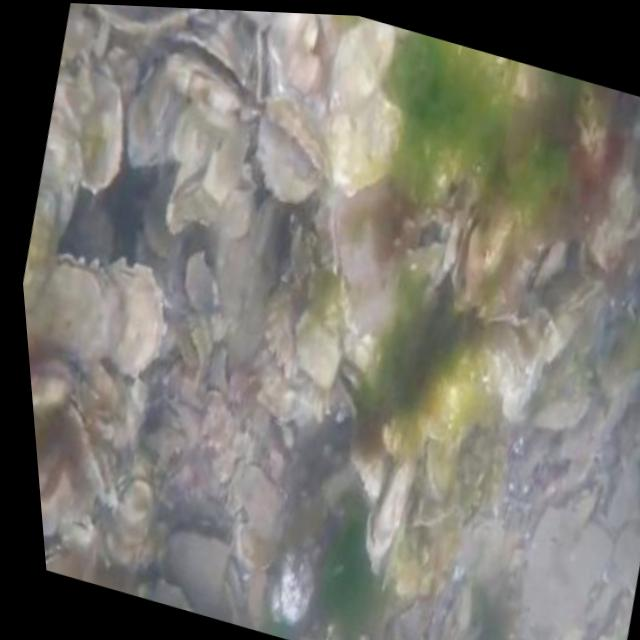Oyster-Closed: (28, 253, 115, 363), (105, 254, 165, 380), (365, 456, 415, 573), (45, 545, 65, 575)
Oyster-Indeterminate: (324, 88, 404, 199), (328, 16, 392, 112), (266, 280, 325, 369), (591, 171, 633, 269), (296, 287, 338, 381), (597, 320, 640, 392), (426, 423, 468, 494)
Oyster-Open: (452, 190, 517, 308), (59, 395, 121, 511), (258, 98, 331, 196), (396, 206, 452, 283), (90, 4, 211, 32), (529, 237, 568, 293), (255, 28, 280, 101)
